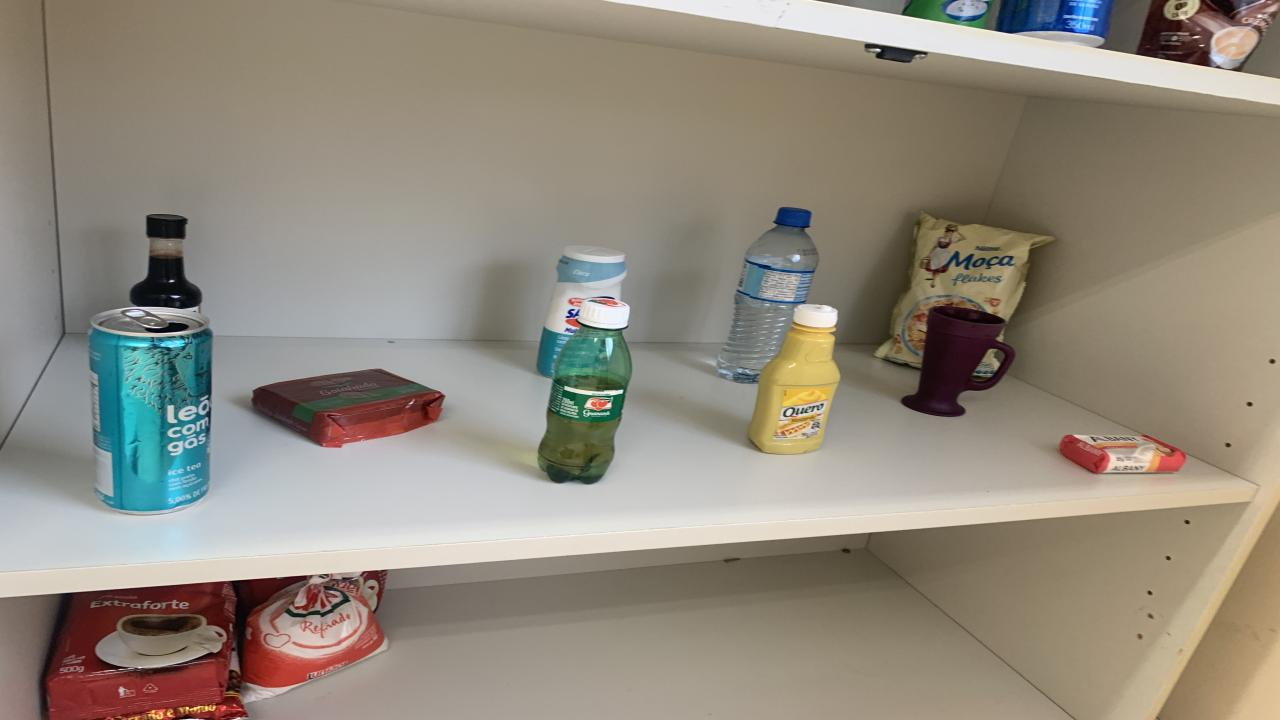Cleaner-Cleanup_Items: (538, 246, 628, 377)
English_Sauce-Pantry_Items: (130, 214, 202, 311)
Flakes-Snacks: (875, 214, 1052, 368)
Guarana-Drinks: (538, 298, 632, 484)
Guava-Snacks: (252, 369, 445, 446)
Mustard-Pantry_Items: (748, 304, 840, 454)
Soap-Cleanup_Items: (1060, 435, 1185, 472)
Tea-Drinks: (88, 308, 212, 514)
Tonic-Drinks: (998, 0, 1112, 47)
Water_Bottle-Drinks: (718, 208, 820, 382)
